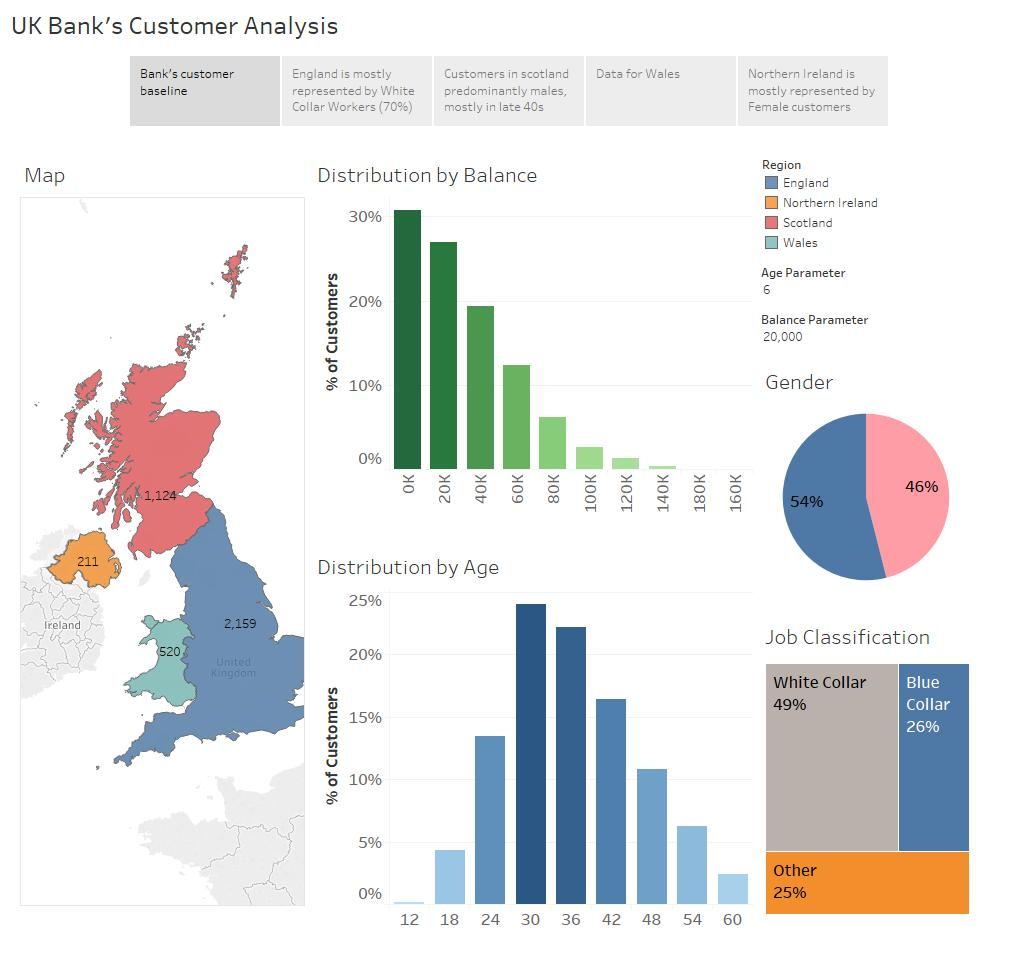

What the dashboard file says about the page in this screenshot:
{"tool":"tableau","page":{"name":"Dashboard 1","canvas":[1000,800],"ordinal":0},"visuals":[{"type":"worksheet","title":"Map","mark":"Multipolygon","box":[8,8,293,784]},{"type":"worksheet","title":"Distribution by Balance","mark":"Automatic","rows":["Number of Records"],"cols":["Balance (bin)"],"box":[301,8,448,392]},{"type":"legend","title":"Map","param":"[federated.0z2ahlw1fmxf4611brugq04xvh4l].[none:Region:nk]","box":[749,8,243,109]},{"type":"parameter","param":"[Parameters].[Age Parameter]","box":[749,117,243,47]},{"type":"parameter","param":"[Parameters].[Balance Parameter]","box":[749,164,243,51]},{"type":"worksheet","title":"Gender","mark":"Pie","box":[749,215,243,255]},{"type":"worksheet","title":"Distribution by Age","mark":"Automatic","rows":["Number of Records"],"cols":["Age (bin)"],"box":[301,400,448,392]},{"type":"worksheet","title":"Job Classification","mark":"Automatic","box":[749,470,243,322]}]}

Visuals, with their boxes on the page's 1000x800 design canvas (x1, y1, x2, y2). These are canvas units, not pixel positions in the 1016x964 screenshot, which may show the page scaled, cropped or inside an application window:
"Map" worksheet (Multipolygon marks): [left=8, top=8, right=301, bottom=792]
"Distribution by Balance" worksheet: [left=301, top=8, right=749, bottom=400]
"Map" legend: [left=749, top=8, right=992, bottom=117]
parameter: [left=749, top=117, right=992, bottom=164]
parameter: [left=749, top=164, right=992, bottom=215]
"Gender" worksheet (Pie marks): [left=749, top=215, right=992, bottom=470]
"Distribution by Age" worksheet: [left=301, top=400, right=749, bottom=792]
"Job Classification" worksheet: [left=749, top=470, right=992, bottom=792]
